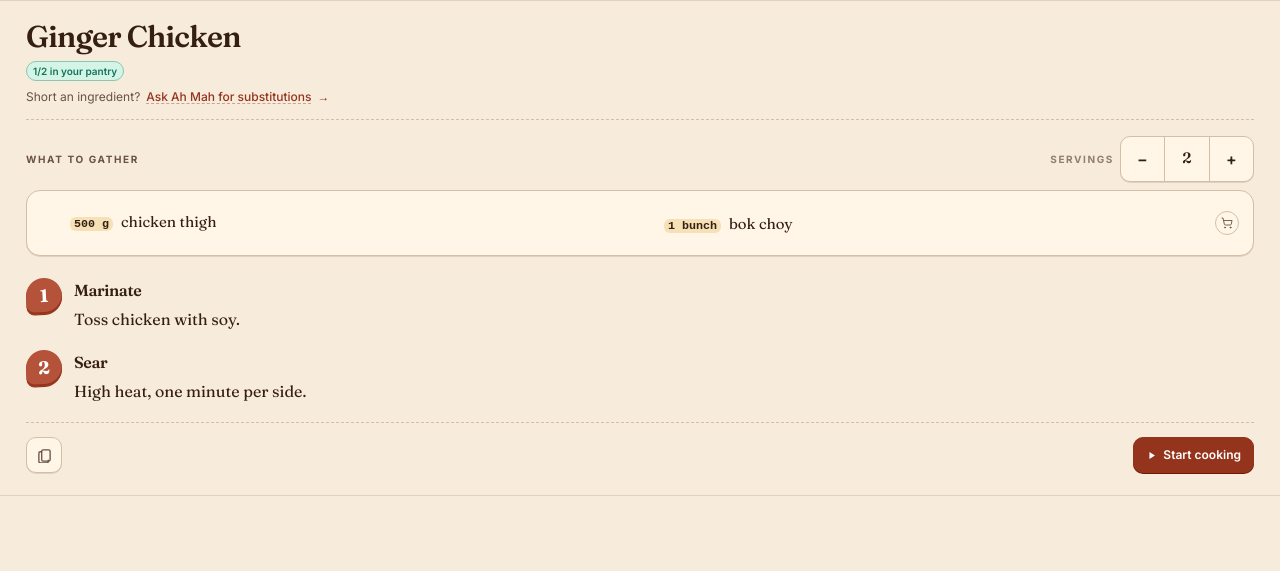
Test: Substitutions opens reconcile mode › offers to save instead of ask when nothing is left missing
Click the button "Short an ingredient? Ask Ah Mah for substitutions →".
click(178, 96)  # box [26,88,330,104]
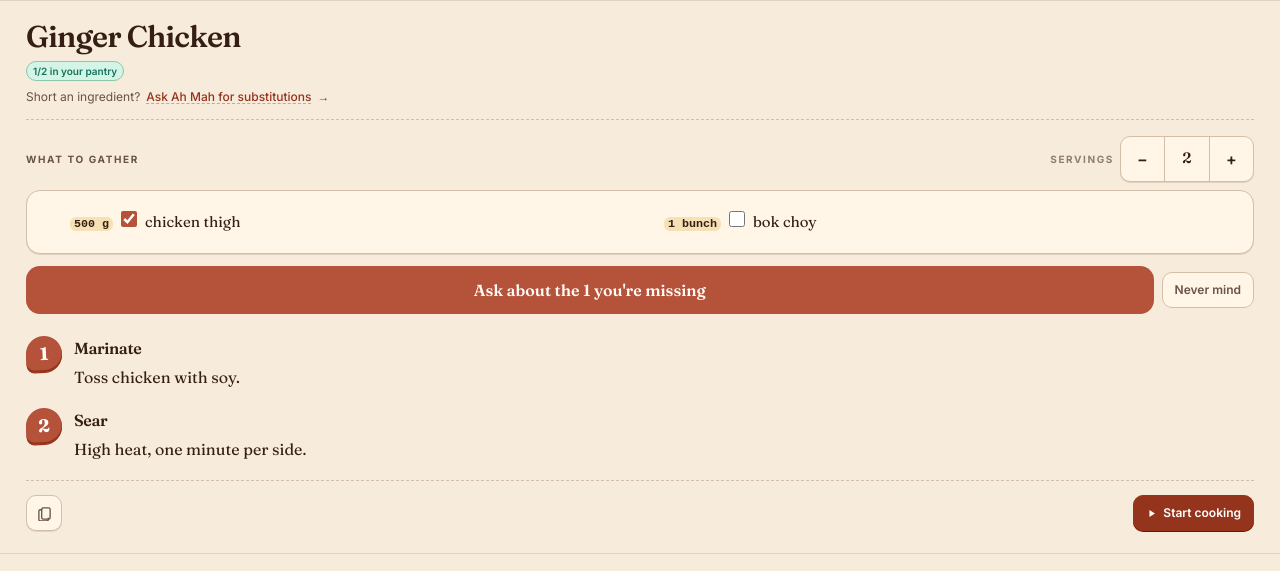
Click the checkbox named "bok choy".
click(737, 218)  # box [729,210,745,226]
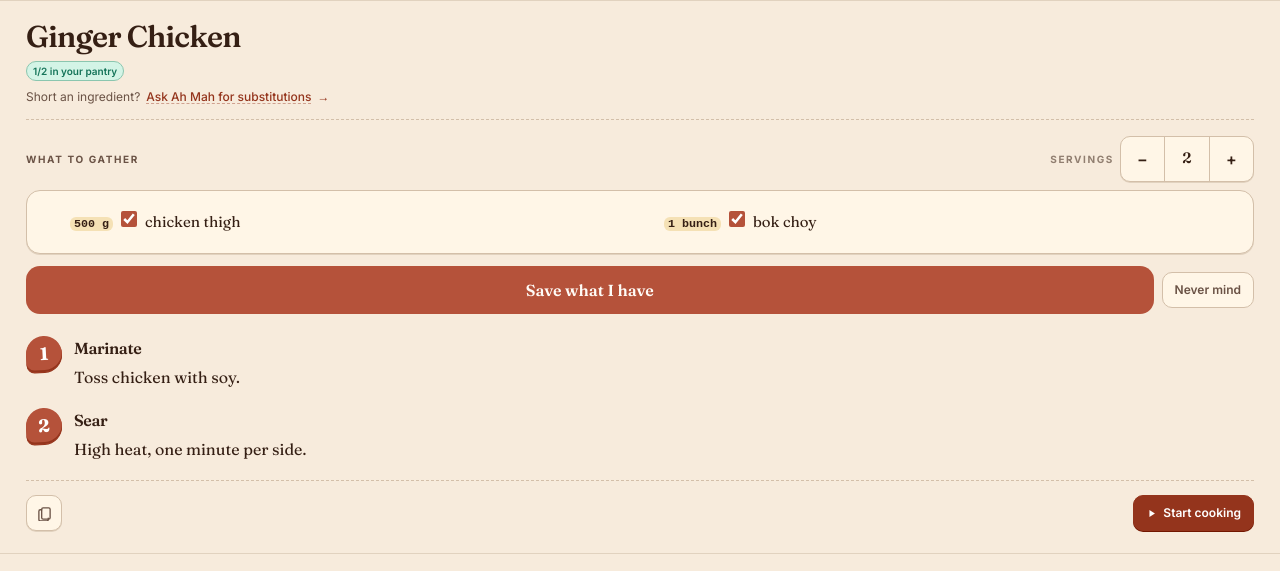
expect the button "Save what I have" is shown: met, box [26,266,1154,314]
